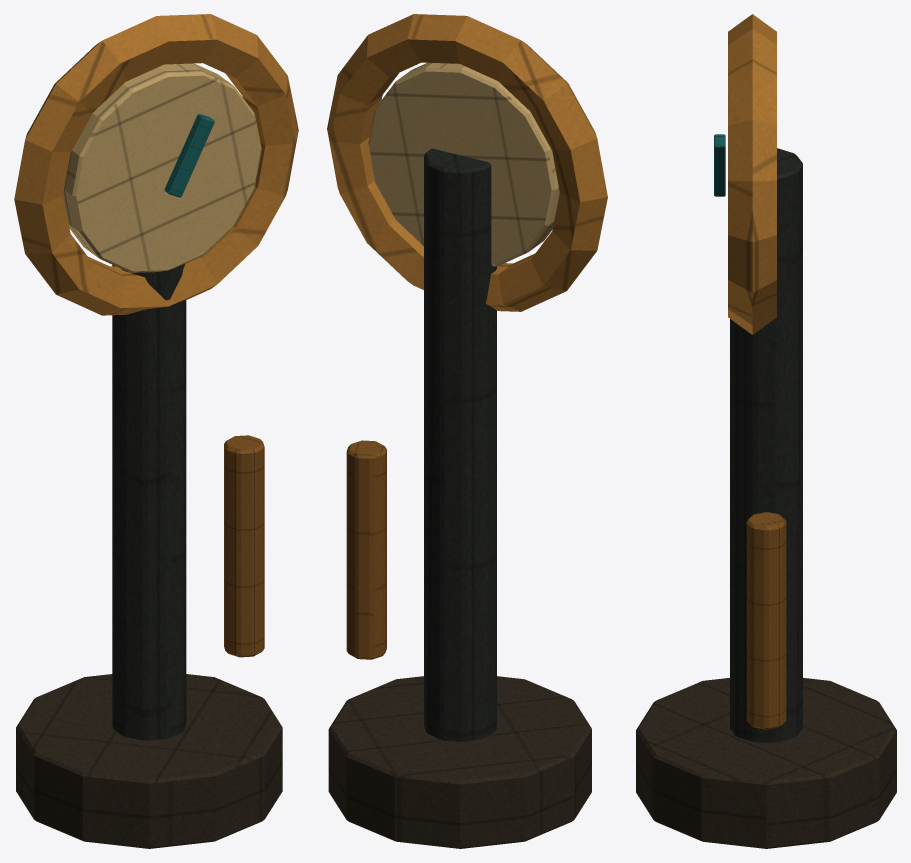
File: gauge-post.e2.glb
3 renders of one model, left to right at view 1: azimuth 30°, elevation 25°; view 2: azimuth 150°, elevation 25°; view 3: azimuth 270°, elevation 25°, orthographic. The views are drawn at different scales.
Visible parts, largest first — view 1: GaugePostE2; view 2: GaugePostE2; view 3: GaugePostE2.
Part boxes in pixels (x1,y1,x2,y2): GaugePostE2: [14, 14, 298, 848]; GaugePostE2: [327, 14, 607, 848]; GaugePostE2: [636, 14, 896, 848].
Bounding box in the file's own units: 0.69 × 1.82 × 0.56.
Materials: 1 (1 with a texture image).
